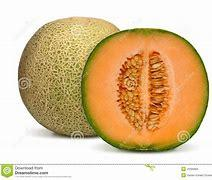Melon Ripe: (83, 27, 212, 153), (19, 16, 122, 138)
